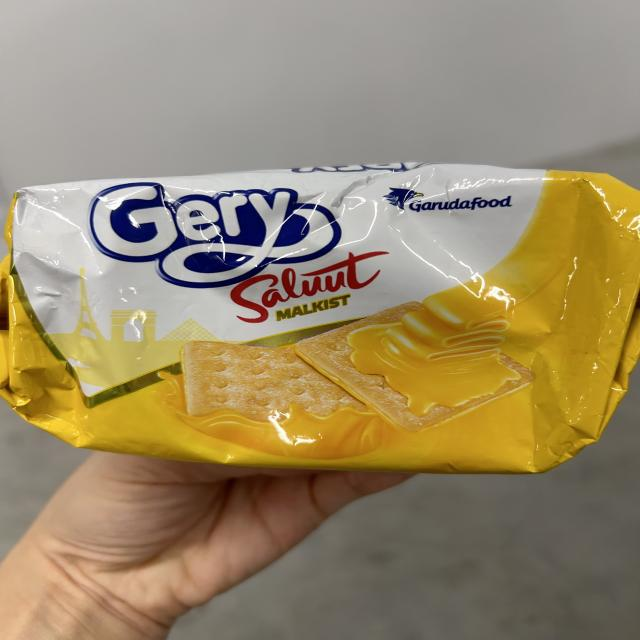object_name: (26, 181, 604, 451)
